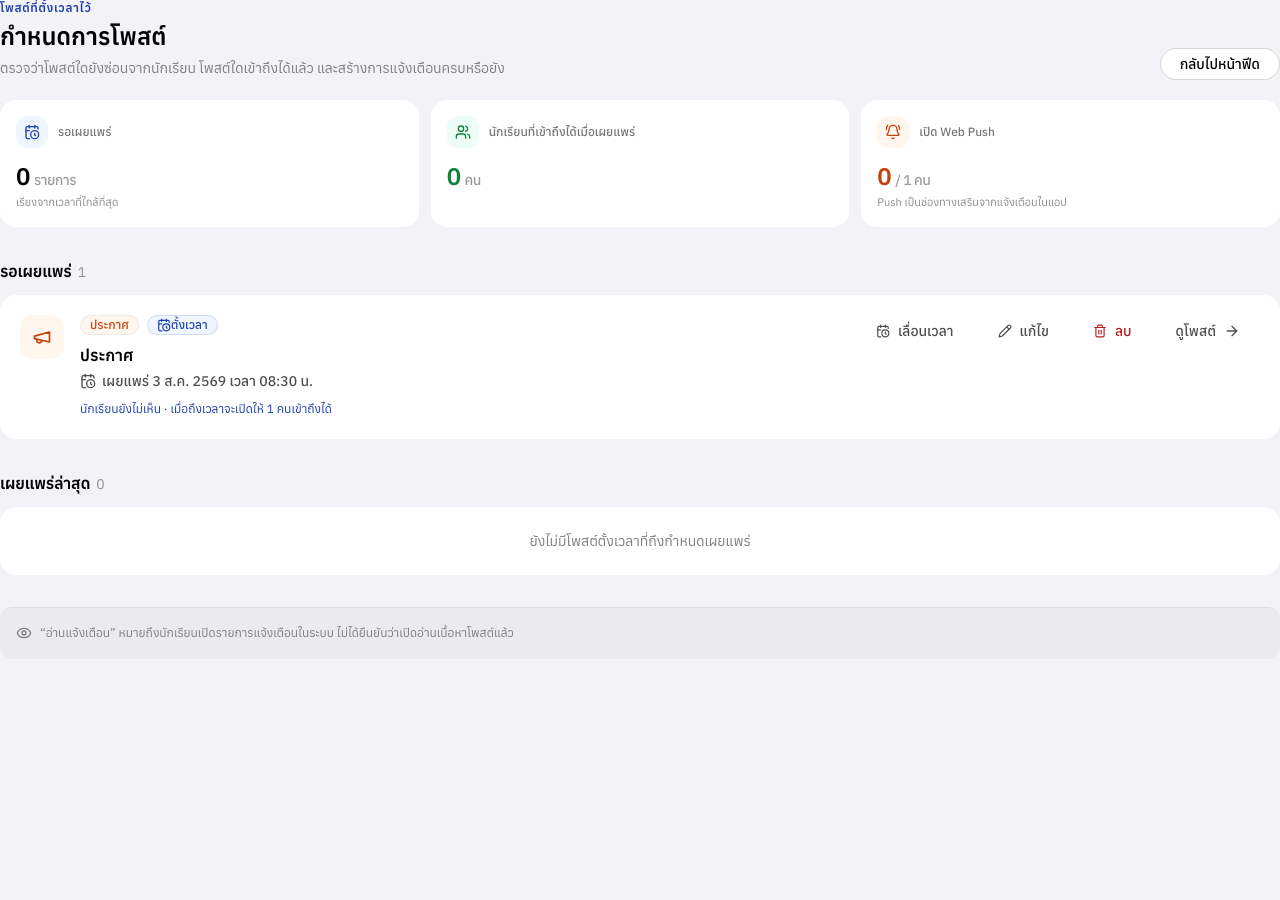
Scenario: TeacherPublishingScheduleView › lets the teacher move a post nobody has seen, prefilled with its Bangkok time
What coordinates should you click on to do the following:
click the button with aria-label "เลื่อนเวลาเผยแพร่ประกาศ"
I would click on:
 (915, 330)
Its box is [856,314,974,346].
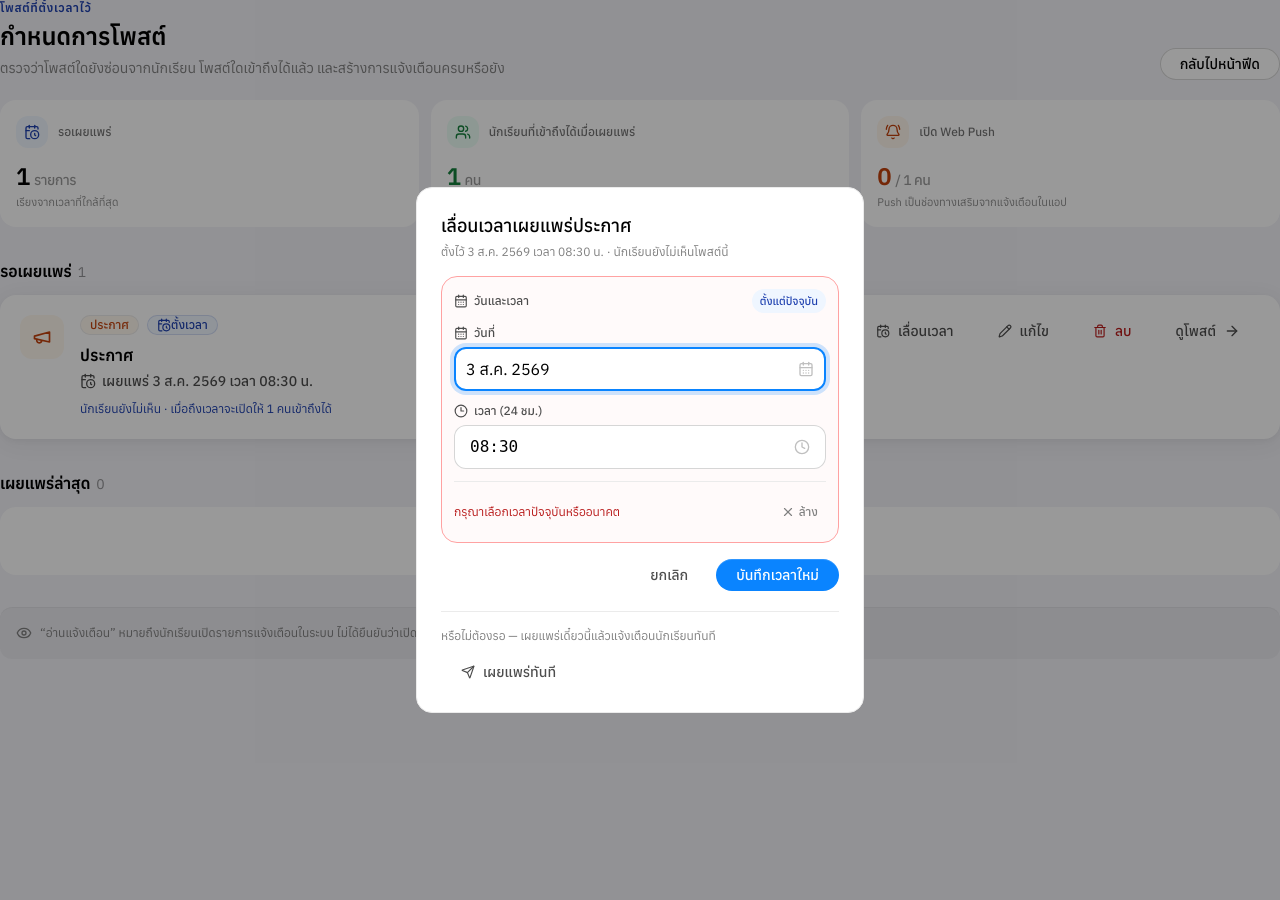
Check: the heading "เลื่อนเวลาเผยแพร่ประกาศ" is shown, box [441,214,632,237]
Check: the element showing "2026-08-03T08:30" is shown, box [441,276,839,543]
Check: the button "เผยแพร่ทันที" is shown, box [441,656,576,688]
